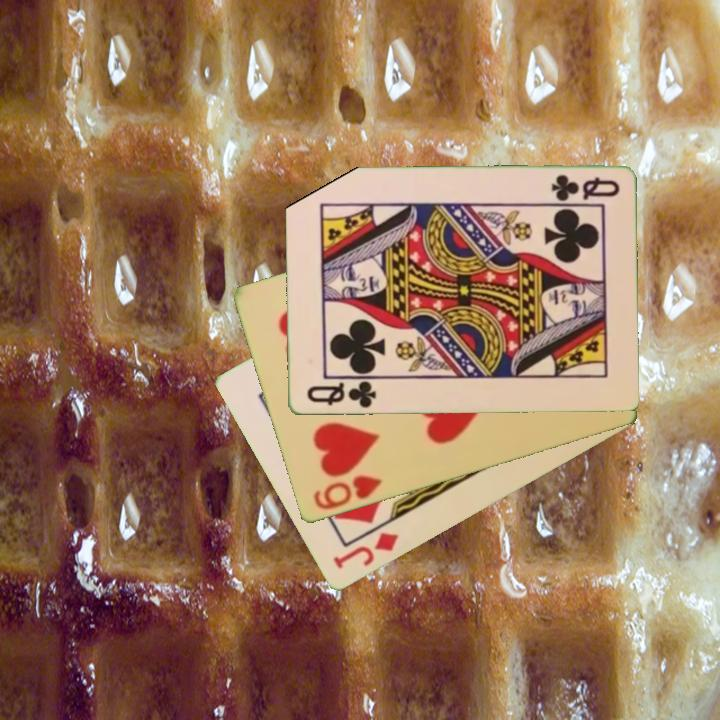6h: (309, 472, 384, 513)
Jd: (329, 528, 401, 573)
Qc: (303, 377, 378, 411), (548, 171, 622, 203)
